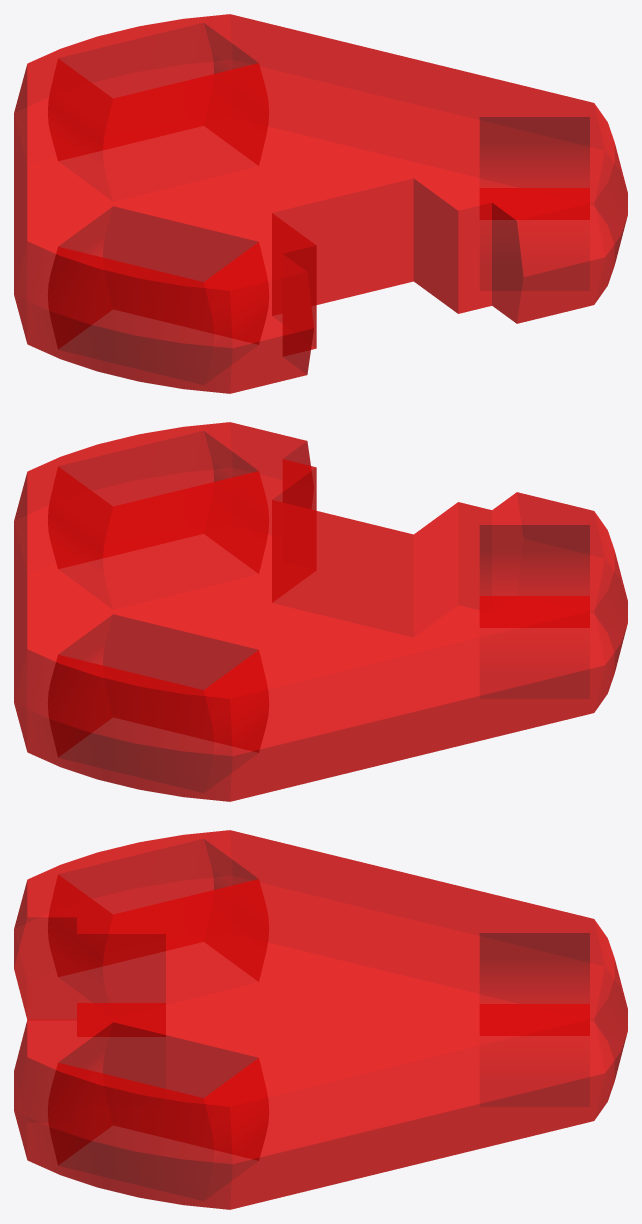
File: Stab Rave Omni Chassis.dae
3 renders of one model, top to bottom at view 1: azimuth 30°, elevation 25°; view 2: azimuth 150°, elevation 25°; view 3: azimuth 270°, elevation 25°, orthographic.
Visible parts, largest first — view 1: ID2; view 2: ID2; view 3: ID2.
Boxes of the visible parts, <box> form: ID2: <box>14,14,627,393</box>; ID2: <box>14,422,627,801</box>; ID2: <box>14,830,627,1209</box>.
Bounding box in the file's own units: 0.1919 × 0.1726 × 0.032.
